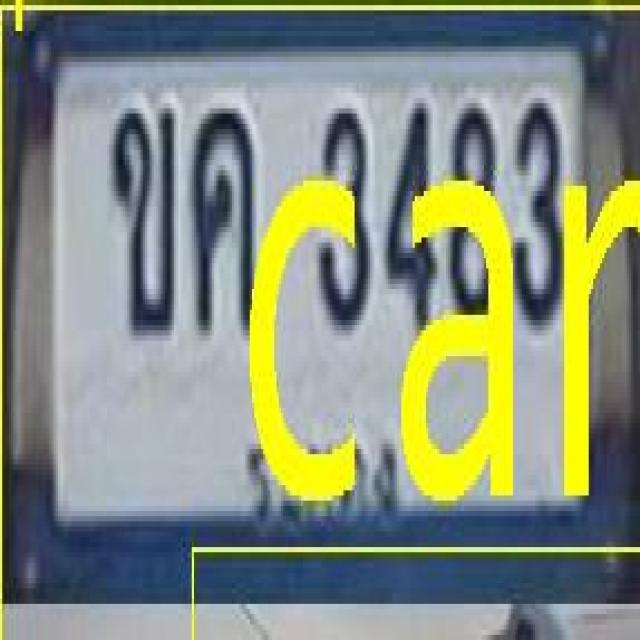license_plate: (19, 19, 634, 605)
